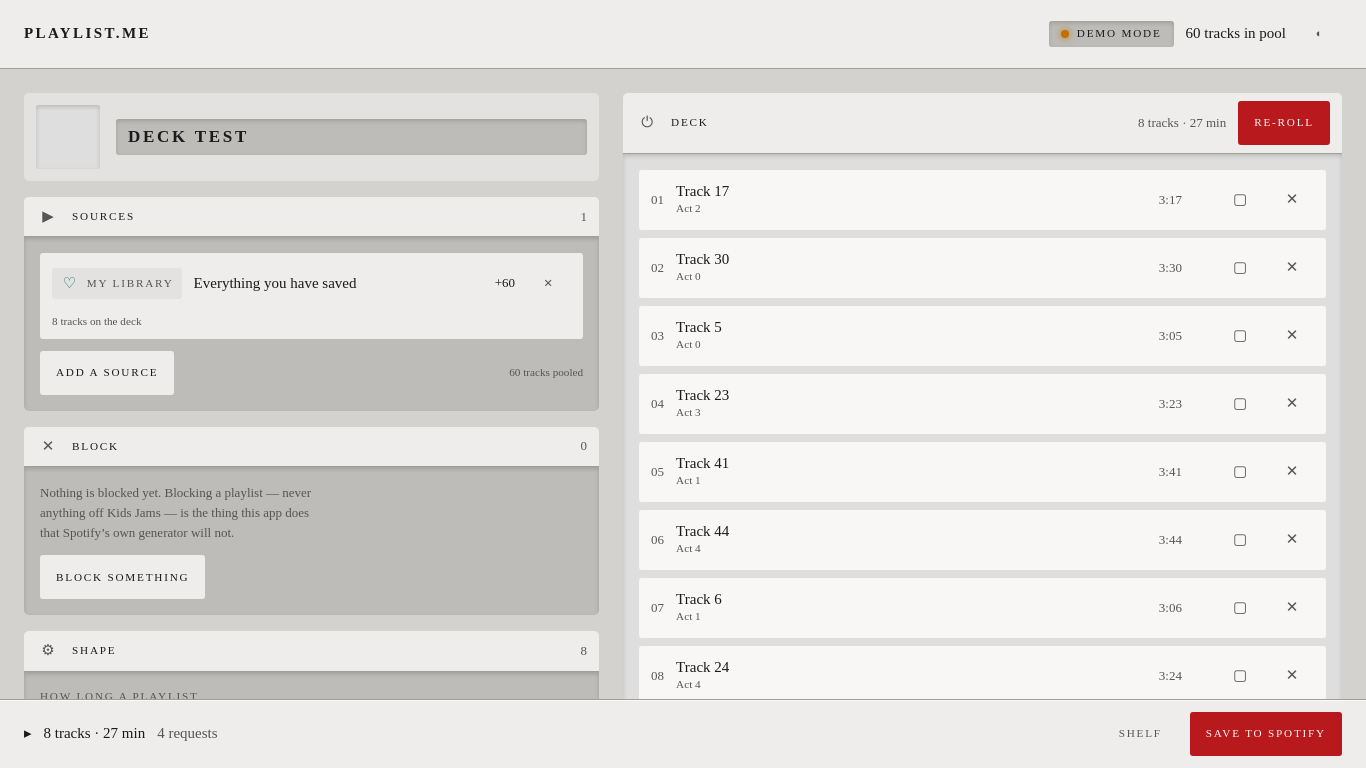
Test: the tinkering loop › keeps a reject undoable for the life of the build
Click the button named "Reject Track" at [1292, 200], box [1270, 178, 1314, 222]
(page scrolled)
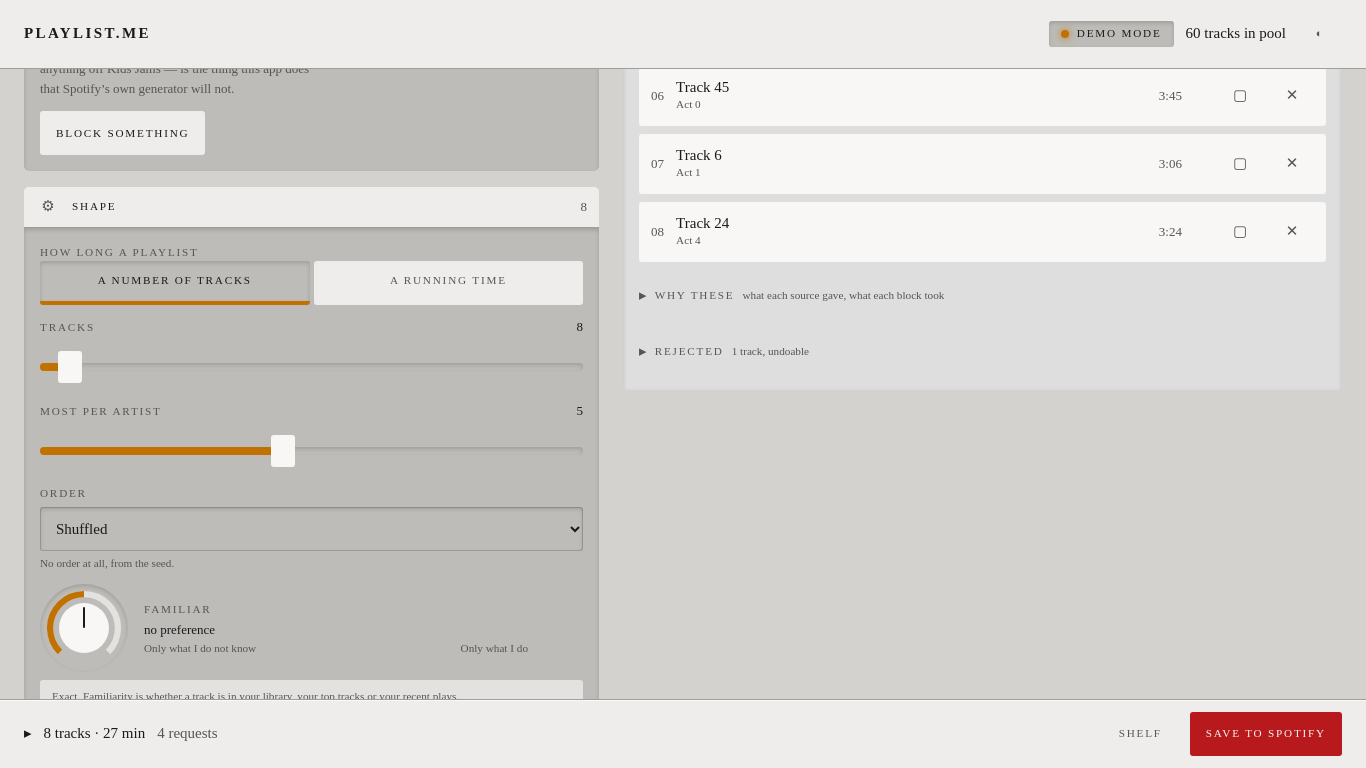
Click the button "▸ Rejected 1 track, undoable" at [689, 351], box [639, 330, 1326, 374]
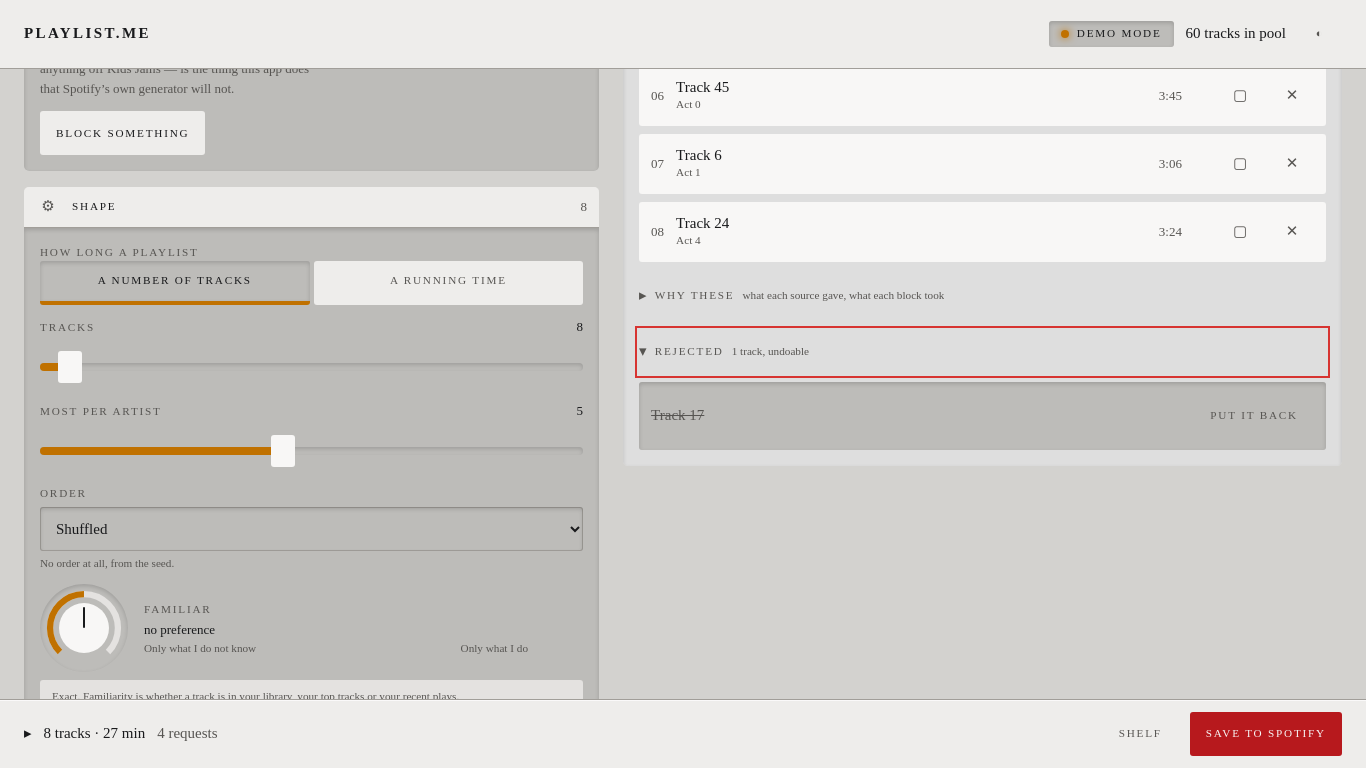
Result: the button "Put it back" is shown at [1194, 394, 1314, 438]
